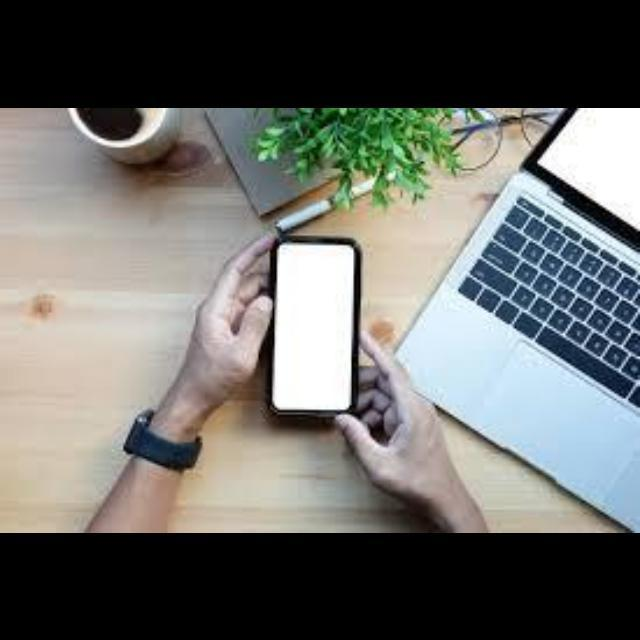phone: (268, 229, 362, 427)
